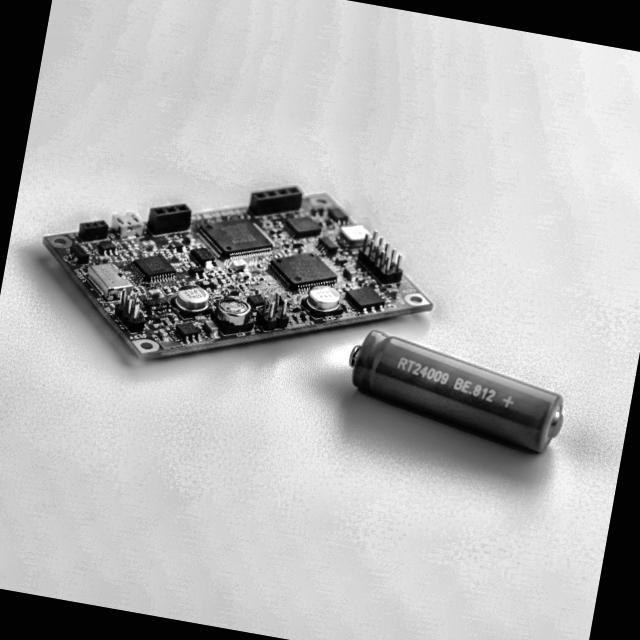Battery: (333, 320, 572, 459)
PCB: (14, 131, 450, 410)
